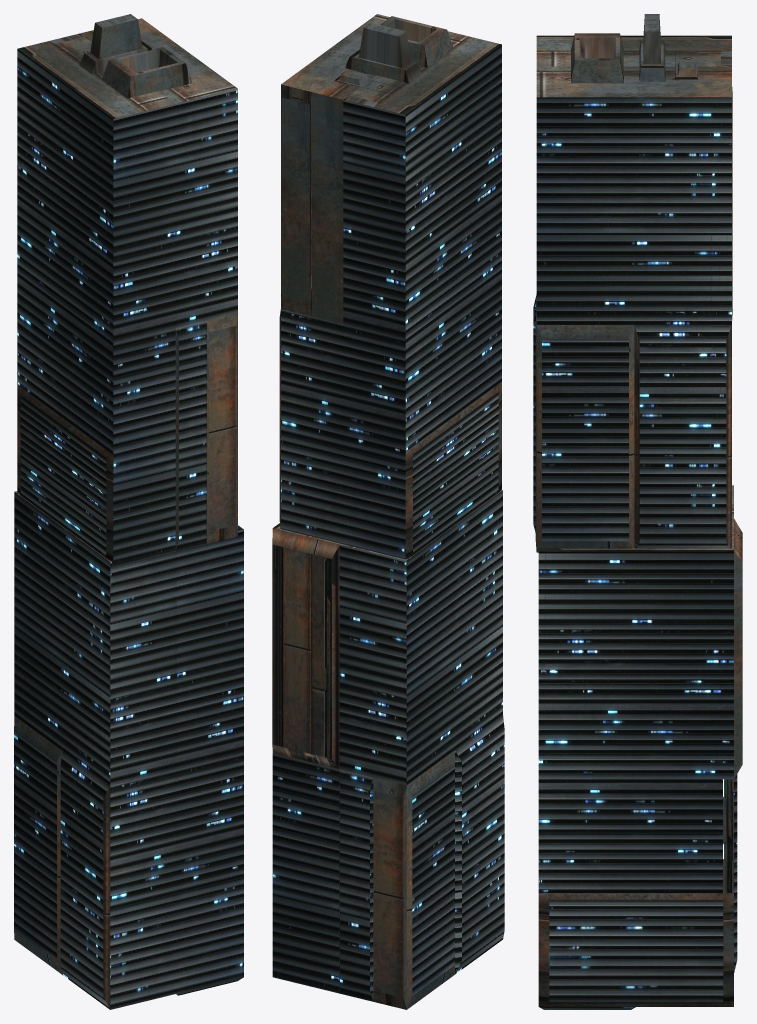
File: s_03_07-new-building.glb
3 views of the same model, side by side, from view 1: azimuth 30°, elevation 25°; view 2: azimuth 150°, elevation 25°; view 3: azimuth 270°, elevation 25° (orthographic).
Parts seen in each view (by area): view 1: s_03_07-new-building.001; view 2: s_03_07-new-building.001; view 3: s_03_07-new-building.001.
Boxes of the visible parts, x1,y1,x2,y2 form: s_03_07-new-building.001: (14, 14, 243, 1009); s_03_07-new-building.001: (272, 14, 504, 1009); s_03_07-new-building.001: (533, 14, 742, 1009).
Size of the model in its own units: 39.47 by 253 by 50.29.
1 material, 1 textured.
